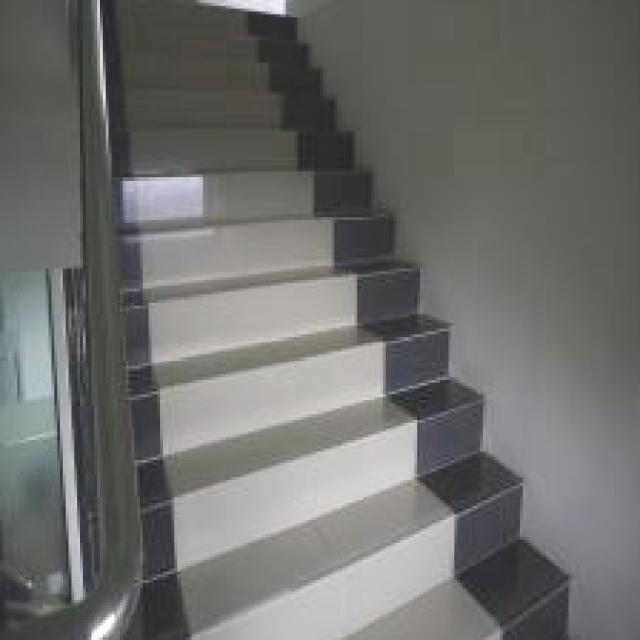upstair: (127, 81, 421, 530)
